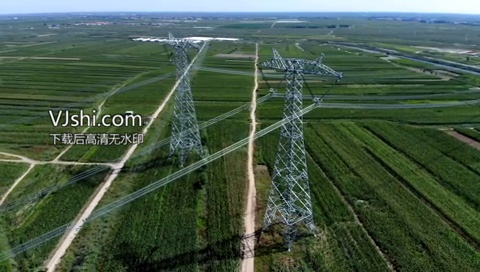tower_body: (252, 45, 350, 250), (124, 27, 233, 166)
tower_foot: (260, 198, 320, 247), (166, 130, 204, 163)
tower_head: (257, 49, 347, 81), (127, 30, 231, 47)
